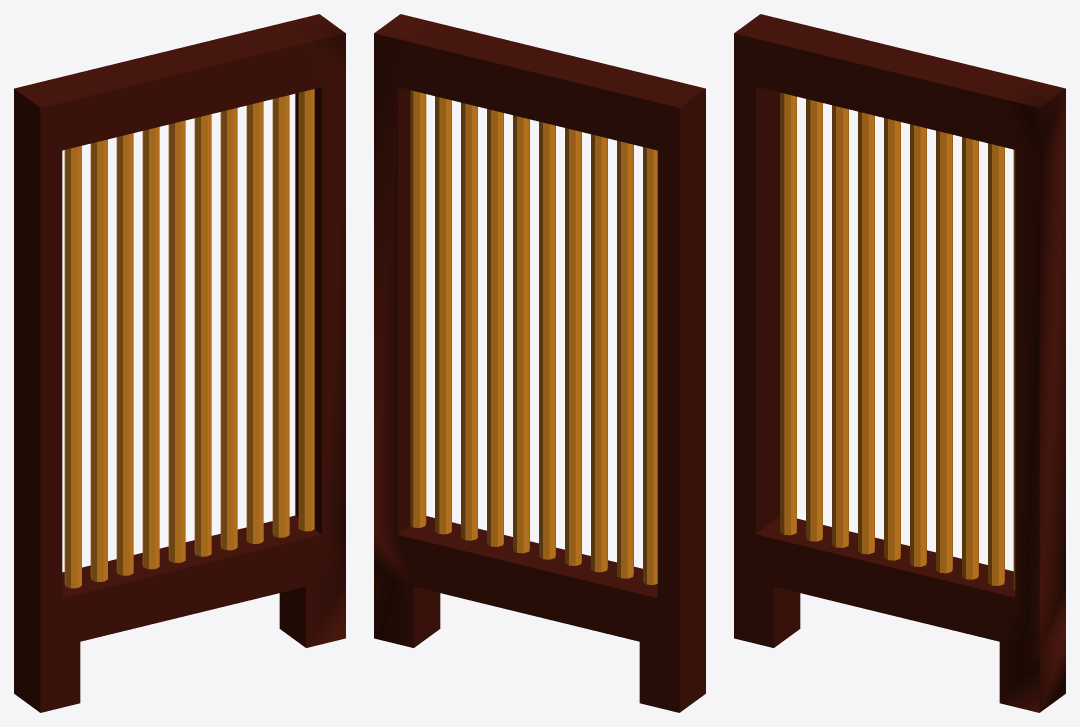
The model's file is Trainstation_Fence_Short.FBX.
3 views of the same model, side by side, from view 1: azimuth 30°, elevation 25°; view 2: azimuth 150°, elevation 25°; view 3: azimuth 330°, elevation 25° (orthographic).
Parts seen in each view (by area): view 1: Trainstation_Fence_Short; view 2: Trainstation_Fence_Short; view 3: Trainstation_Fence_Short.
Boxes of the visible parts, <box> form: Trainstation_Fence_Short: <box>14,14,345,712</box>; Trainstation_Fence_Short: <box>374,14,705,712</box>; Trainstation_Fence_Short: <box>734,14,1065,712</box>.
Bounding box in the file's own units: 100 × 15 × 189.
